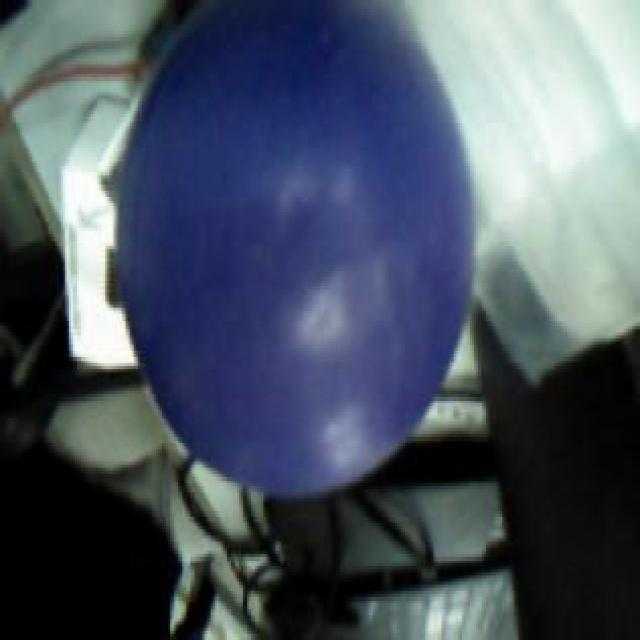BallPurple: (120, 0, 475, 499)
